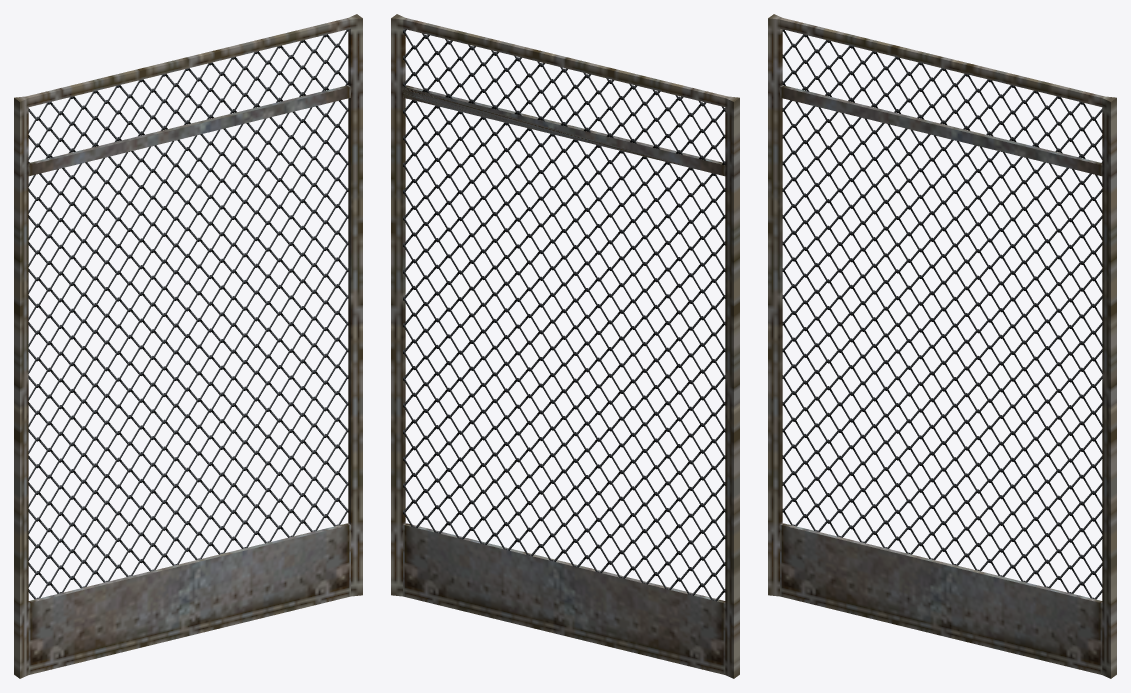
The model's file is M2Z4_MESHGATEB.glb.
The picture shows the model from 3 angles, left to right: view 1: azimuth 30°, elevation 25°; view 2: azimuth 150°, elevation 25°; view 3: azimuth 330°, elevation 25°; orthographic projection.
Visible parts, largest first — view 1: M2Z4_MESHGATEB; view 2: M2Z4_MESHGATEB; view 3: M2Z4_MESHGATEB.
Part boxes in pixels (<box>): M2Z4_MESHGATEB: <box>14,14,362,678</box>; M2Z4_MESHGATEB: <box>391,14,739,678</box>; M2Z4_MESHGATEB: <box>768,14,1116,678</box>.
Bounding box in the file's own units: 2 × 3.22 × 0.06.
Materials: 2 (2 with a texture image).
